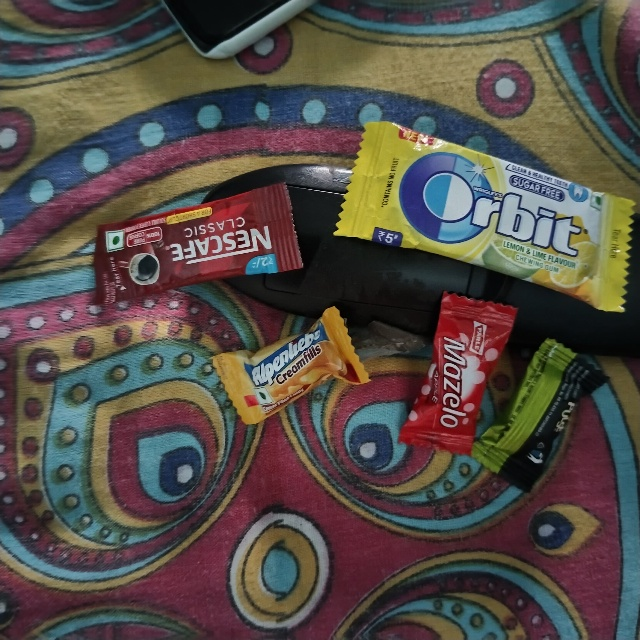Alpenlibe Creamfills: (209, 358, 353, 440)
Mazelo: (445, 285, 521, 447)
Nescafe Coffee: (81, 220, 293, 310)
Orbit: (359, 111, 638, 236)
Pulse: (550, 330, 623, 485)
